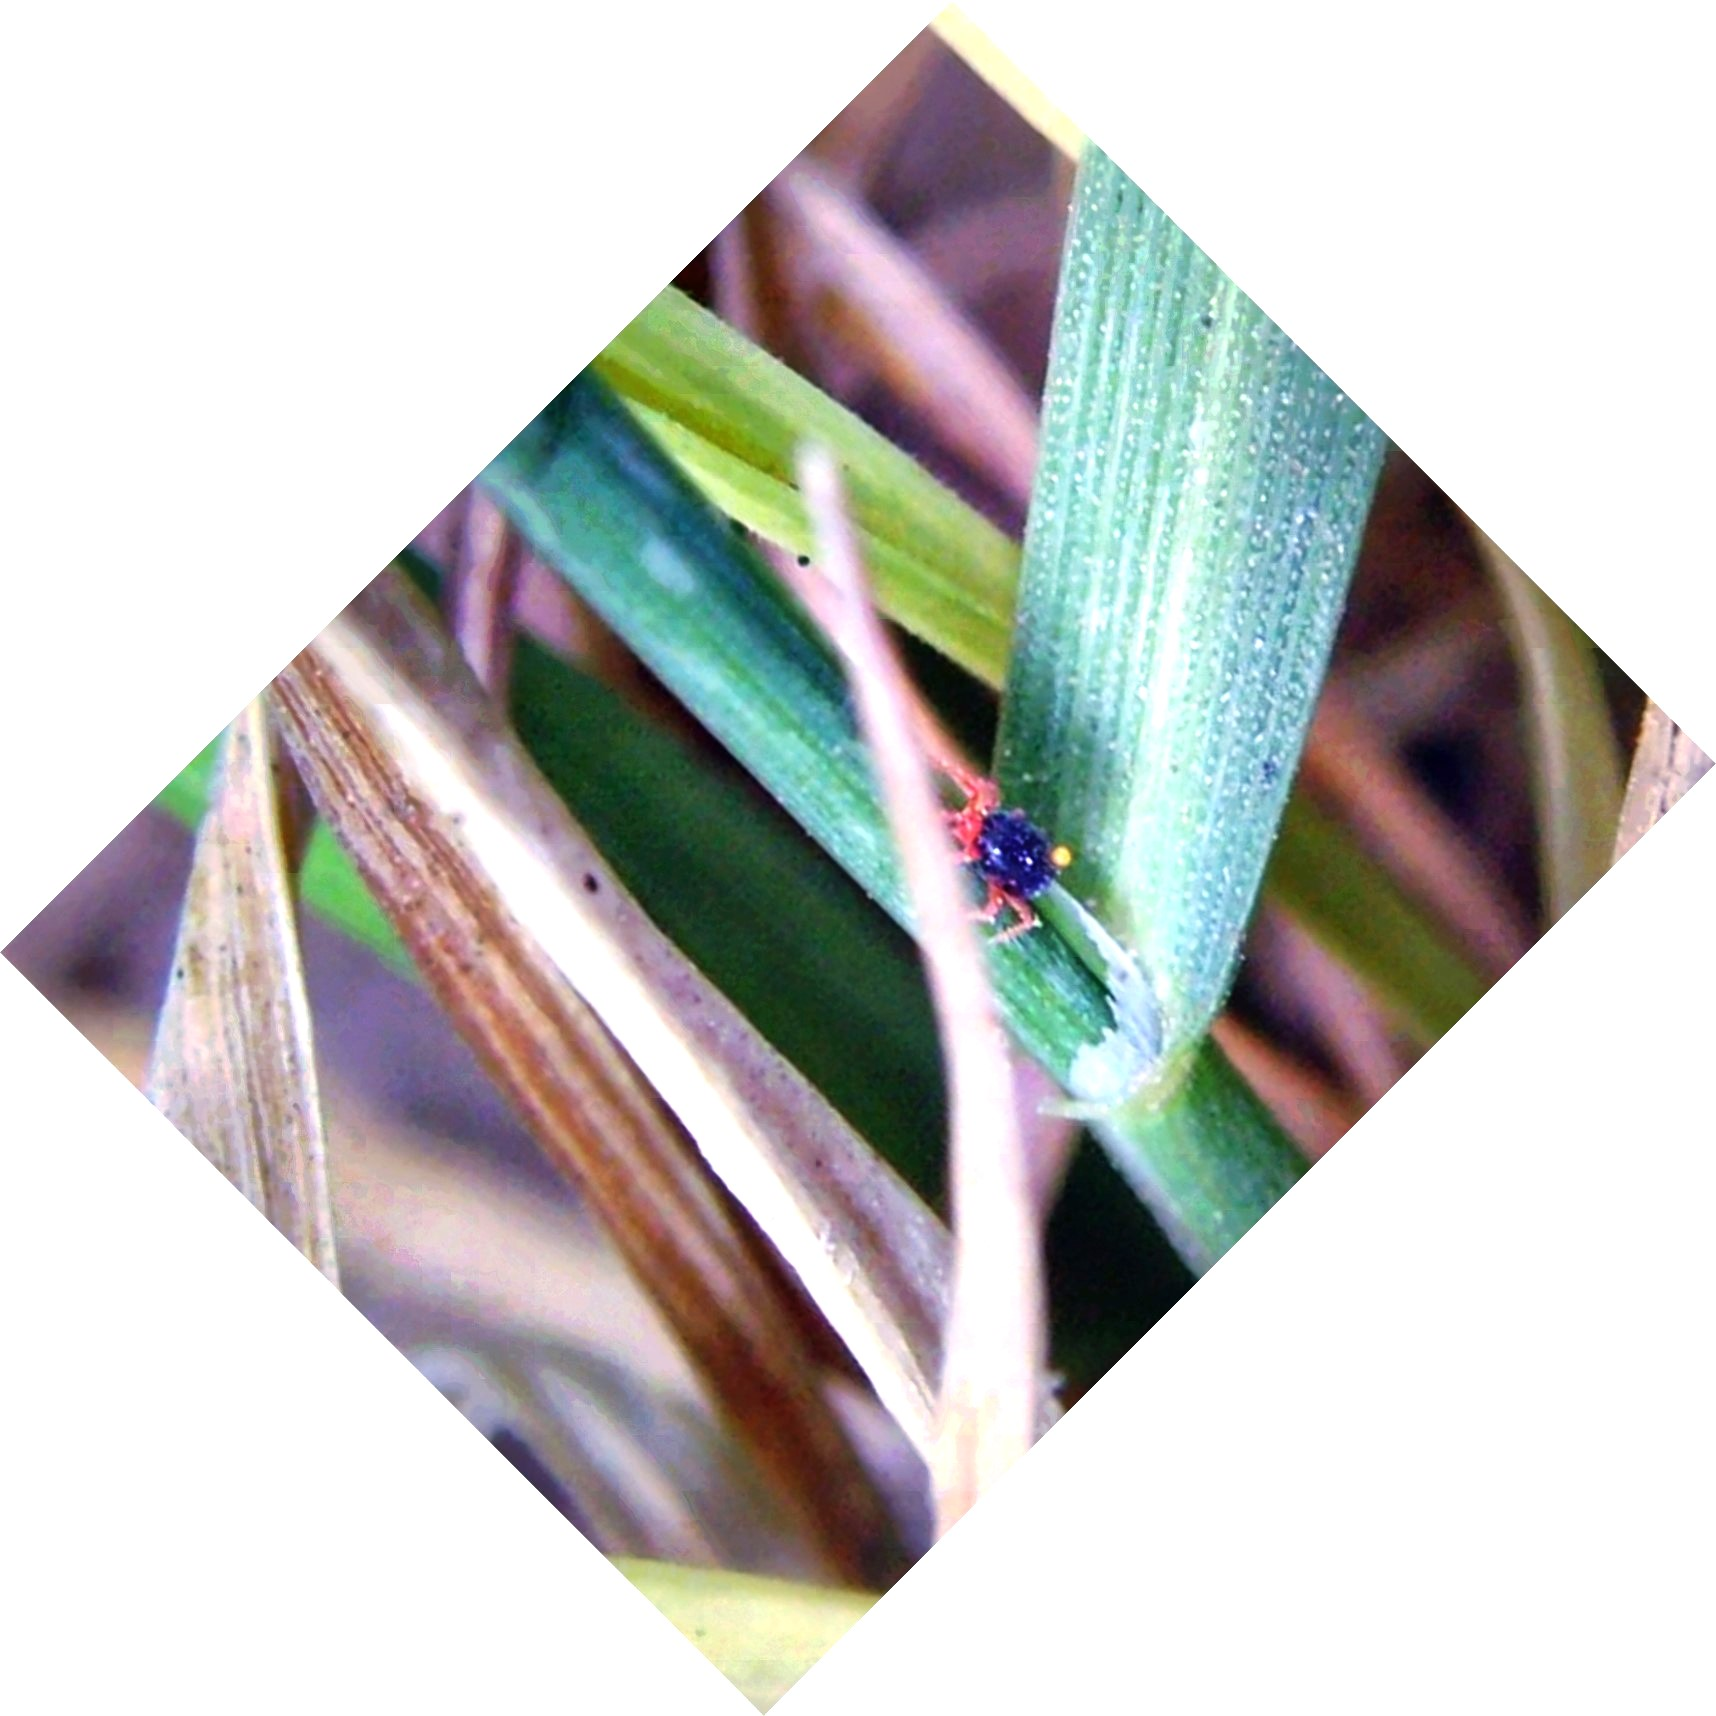Wheat Red Spider: (915, 765, 1098, 962)
